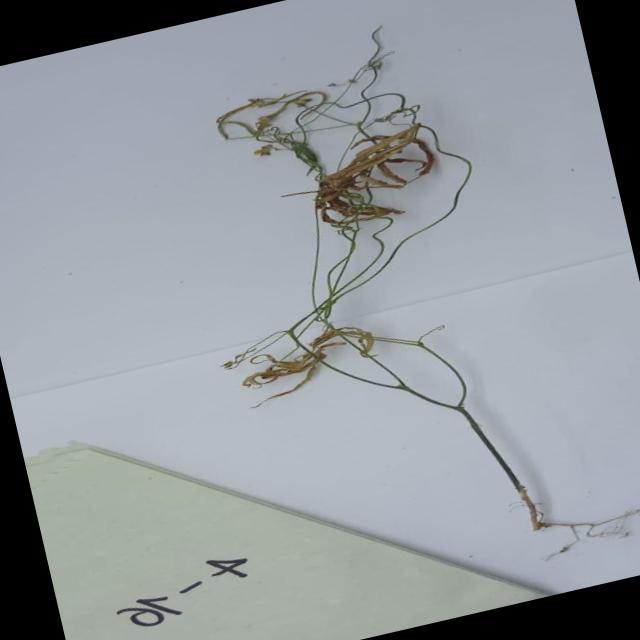Root: (522, 493, 640, 561), (504, 490, 552, 538)
Stem: (266, 218, 403, 318), (200, 292, 366, 362), (448, 396, 528, 502), (280, 81, 418, 136), (366, 190, 480, 248), (424, 117, 496, 203), (395, 333, 463, 421), (333, 21, 404, 99), (326, 353, 418, 410), (260, 116, 324, 186)
rooten_leaf: (229, 343, 333, 411), (317, 141, 434, 198), (304, 174, 388, 236), (349, 120, 429, 170), (306, 320, 376, 368)
